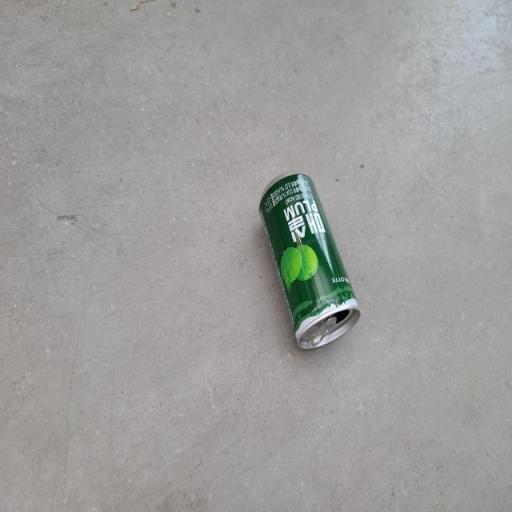metal: (226, 146, 402, 418)
